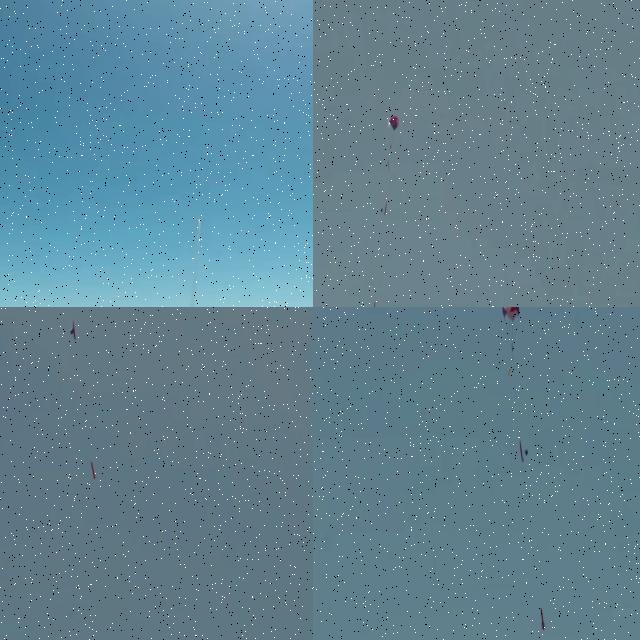Rocket: (90, 461, 96, 479), (541, 608, 545, 629), (197, 215, 202, 222), (373, 302, 375, 307)
